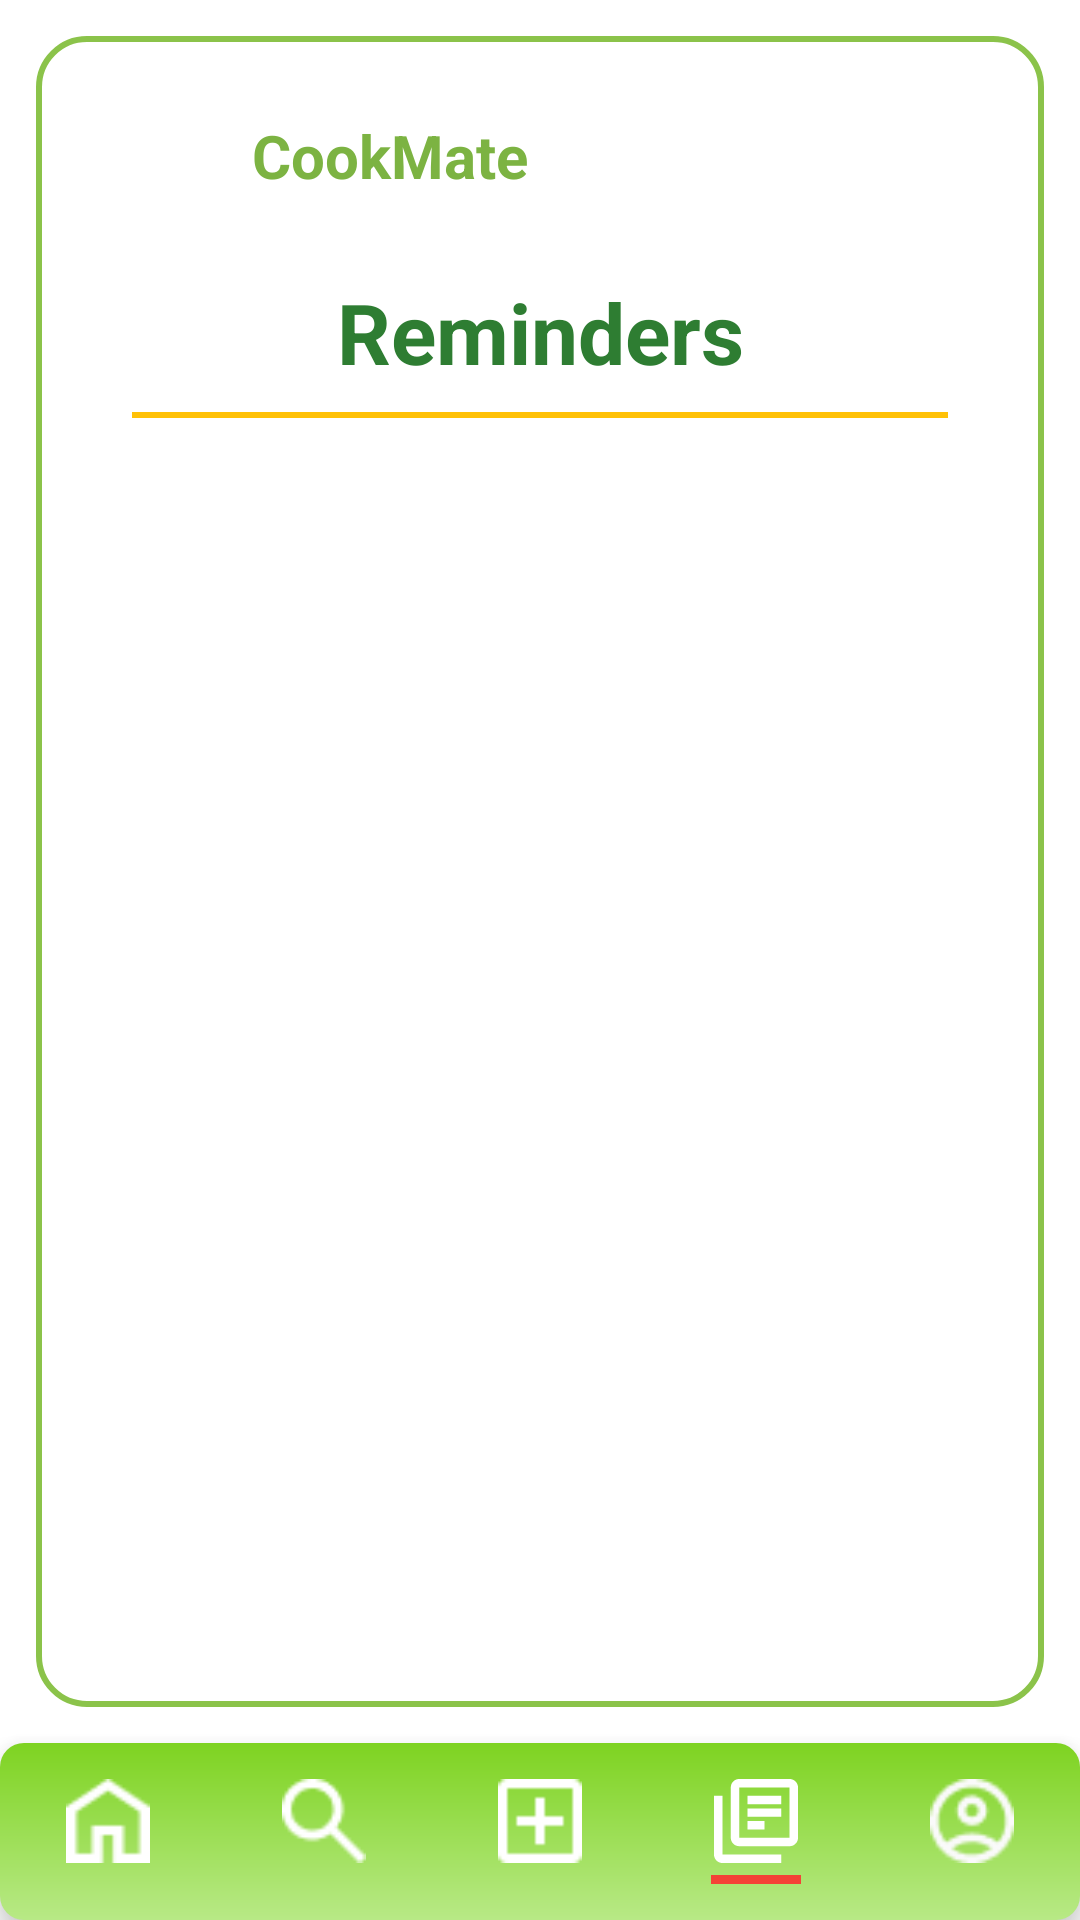

Icon click points for this 1080 × 1920 phone screenshot, format [x,y]:
add: [540,1821]
home: [108,1821]
library: [756,1821]
profile: [972,1821]
search: [324,1821]
